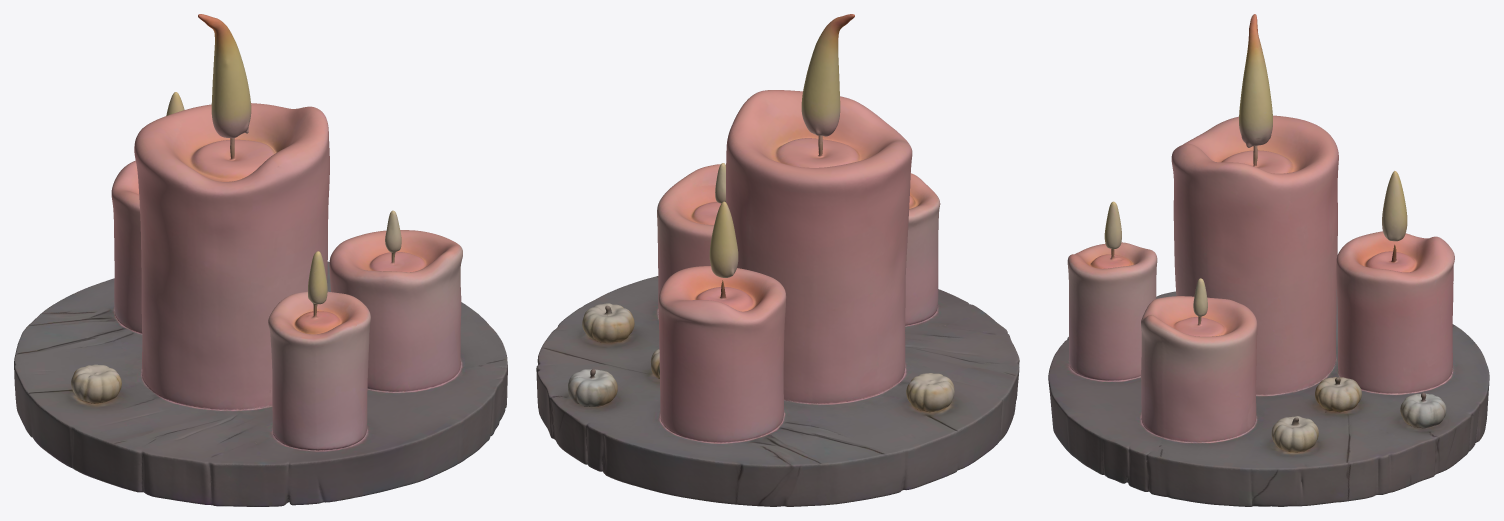
File: detailed_realistic_model_floatingcandles_07.glb
3 views of the same model, side by side, from view 1: azimuth 30°, elevation 25°; view 2: azimuth 150°, elevation 25°; view 3: azimuth 270°, elevation 25° (orthographic). The views are drawn at different scales.
Parts seen in each view (by area): view 1: tripo_node_9d736621-ad44-4593-a3df-24204d48b57a; view 2: tripo_node_9d736621-ad44-4593-a3df-24204d48b57a; view 3: tripo_node_9d736621-ad44-4593-a3df-24204d48b57a.
Part boxes in pixels (x1,y1,x2,y2): tripo_node_9d736621-ad44-4593-a3df-24204d48b57a: [14, 14, 507, 506]; tripo_node_9d736621-ad44-4593-a3df-24204d48b57a: [536, 14, 1019, 506]; tripo_node_9d736621-ad44-4593-a3df-24204d48b57a: [1048, 14, 1489, 506].
Bounding box in the file's own units: 0.999 × 0.9278 × 1.
1 material, 1 textured.
